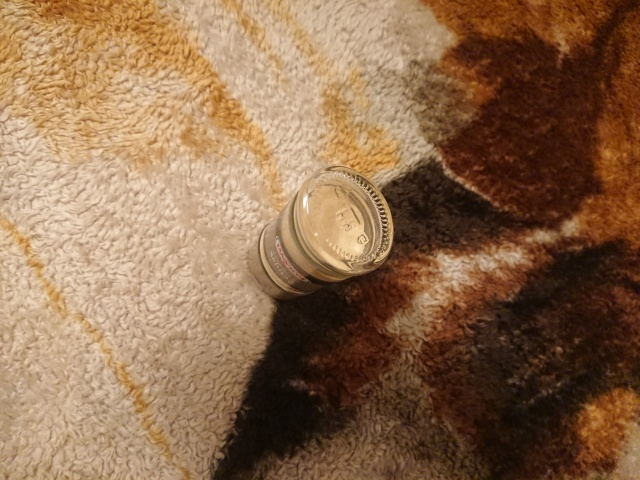Kotanyi Garlic Granules 70g: (242, 163, 395, 305)
